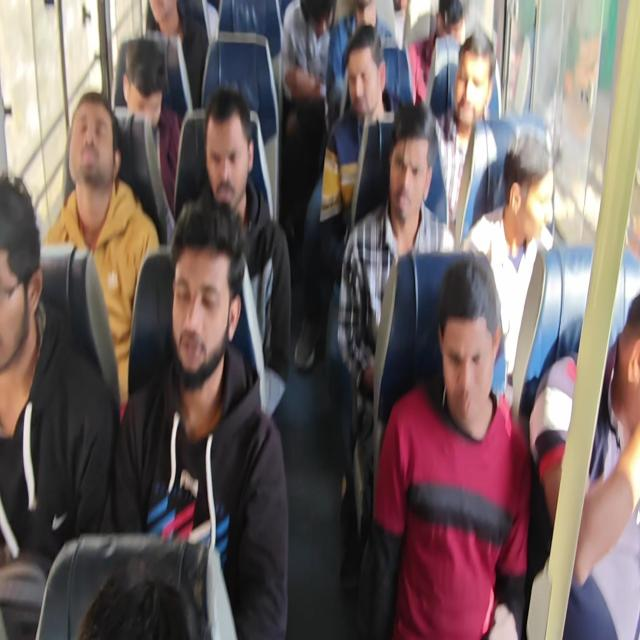person: (1, 1, 638, 638), (112, 198, 289, 638), (370, 250, 533, 638), (336, 101, 456, 620), (0, 173, 119, 579), (42, 91, 160, 417), (529, 292, 639, 638), (294, 23, 395, 371), (197, 86, 292, 418), (462, 125, 556, 392), (319, 23, 395, 239), (425, 30, 499, 241), (279, 0, 336, 243), (119, 36, 181, 230), (326, 0, 395, 131), (78, 569, 193, 639), (147, 0, 209, 119), (408, 0, 464, 105)
